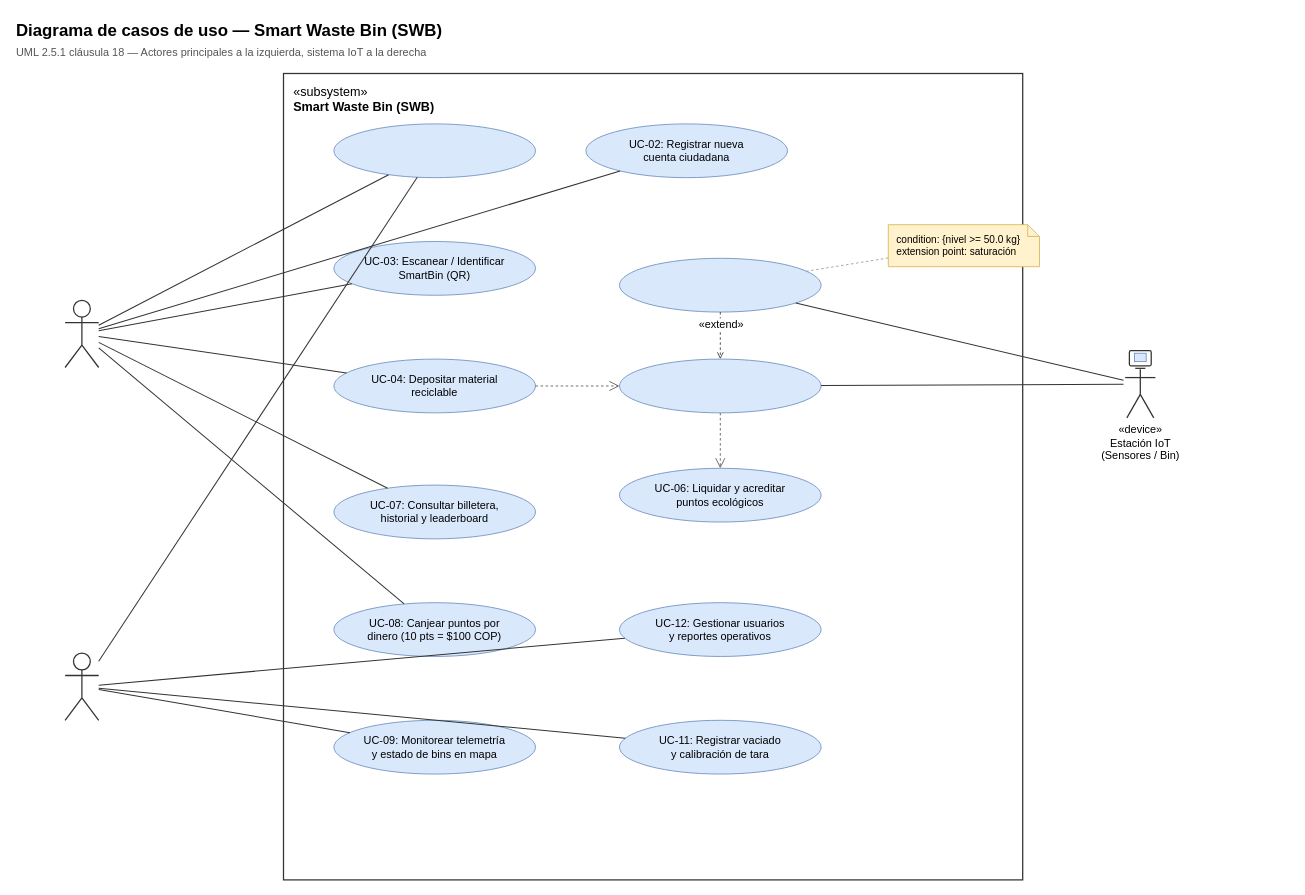
Some shapes in this 1305 by 895 pixel diagram are drawn without their labels. The shapes that lost their labels are listed below. From the top down, each one's centre as x and y in pixels, then its label:
At [434,150]: "UC-01: Iniciar sesión / Autenticar usuario".
At [720,284]: "UC-10: Bloquear estación por saturación (>=50kg)".
At [81,333]: "Ciudadano (App Móvil)".
At [720,385]: "UC-05: Pesar y validar residuo (HX711)".
At [81,686]: "Administrador (Web Admin)".
